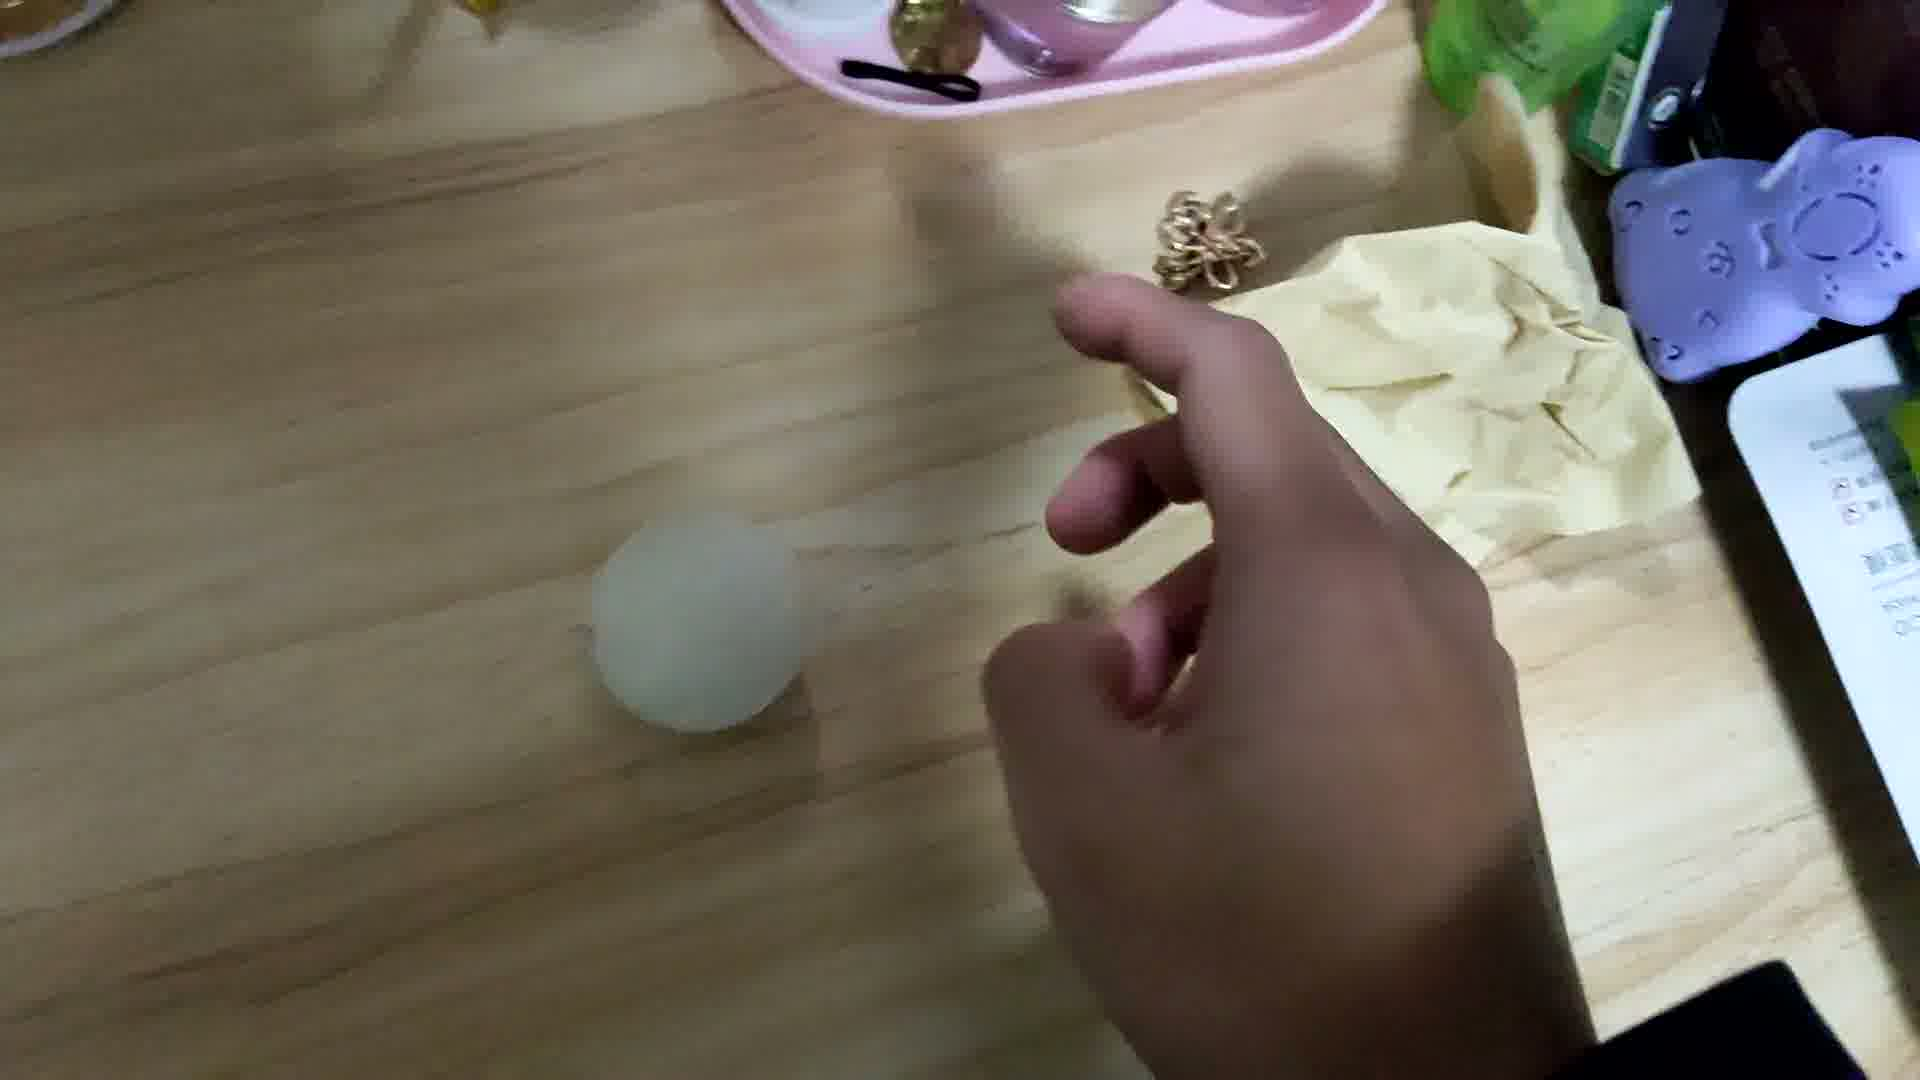Ball: (593, 516, 808, 727)
